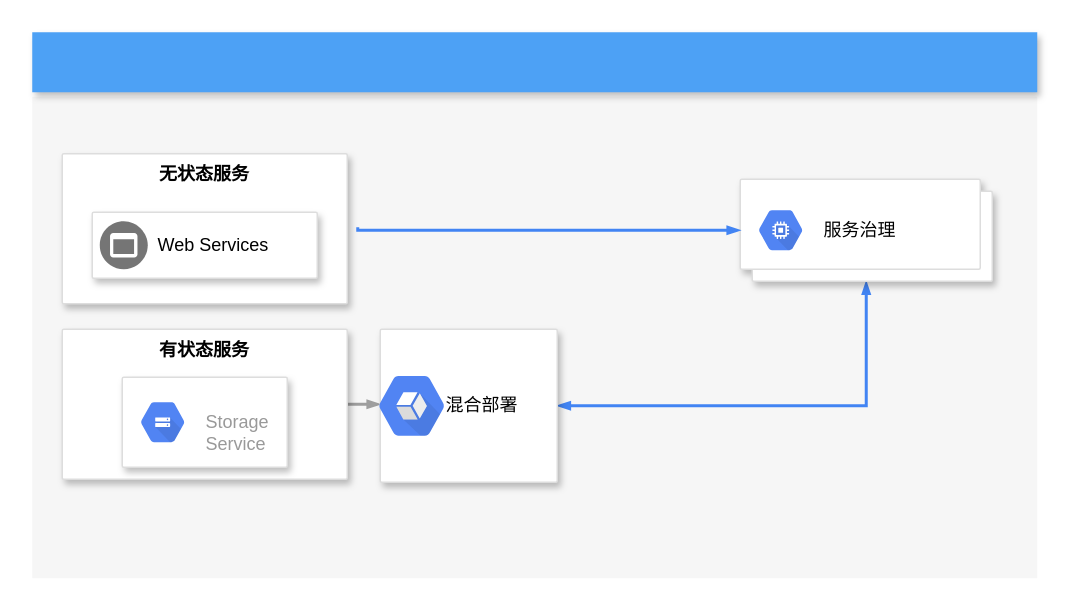
This 1071x603 diagram has some shape labels left out. Each missing label, with the centre of its shape:
Stackdriver: point 411,405
一点容器云建设: point 536,64
